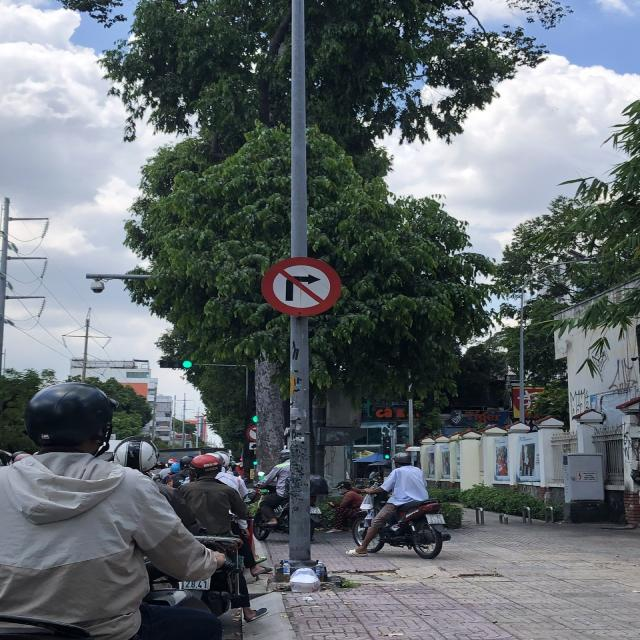Bien bao cam re phai: (252, 253, 343, 317)
